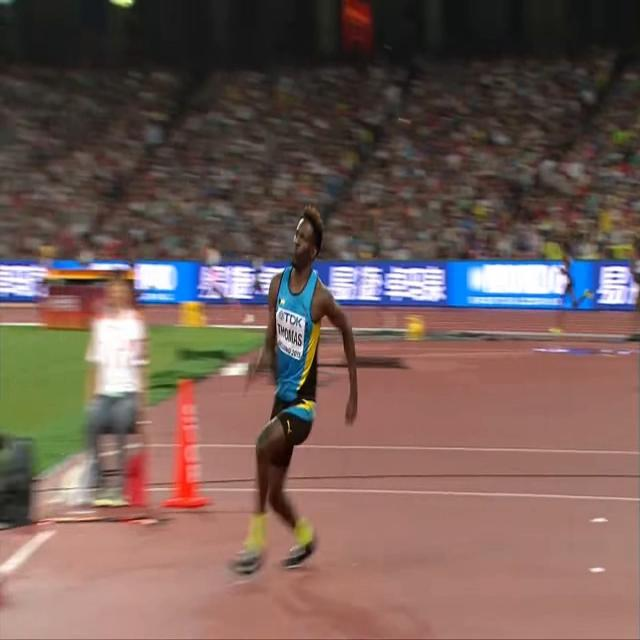run: (228, 208, 358, 569)
